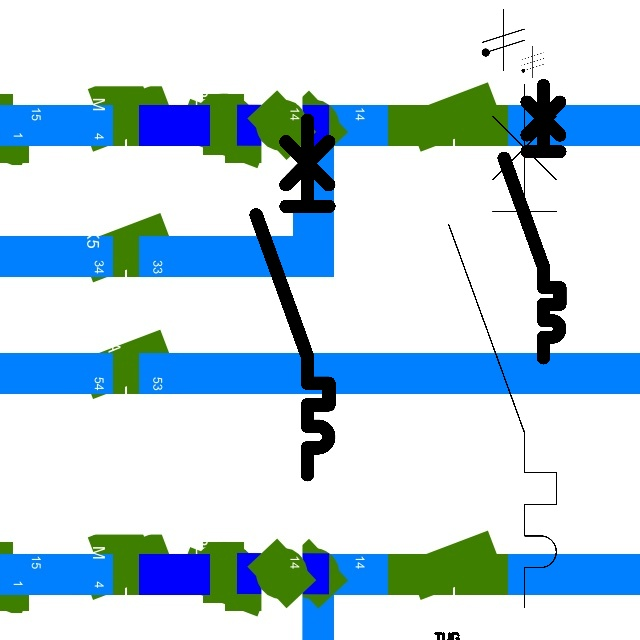interruptor_termomagnetico: (435, 71, 570, 621), (247, 111, 338, 484), (497, 78, 567, 365)
